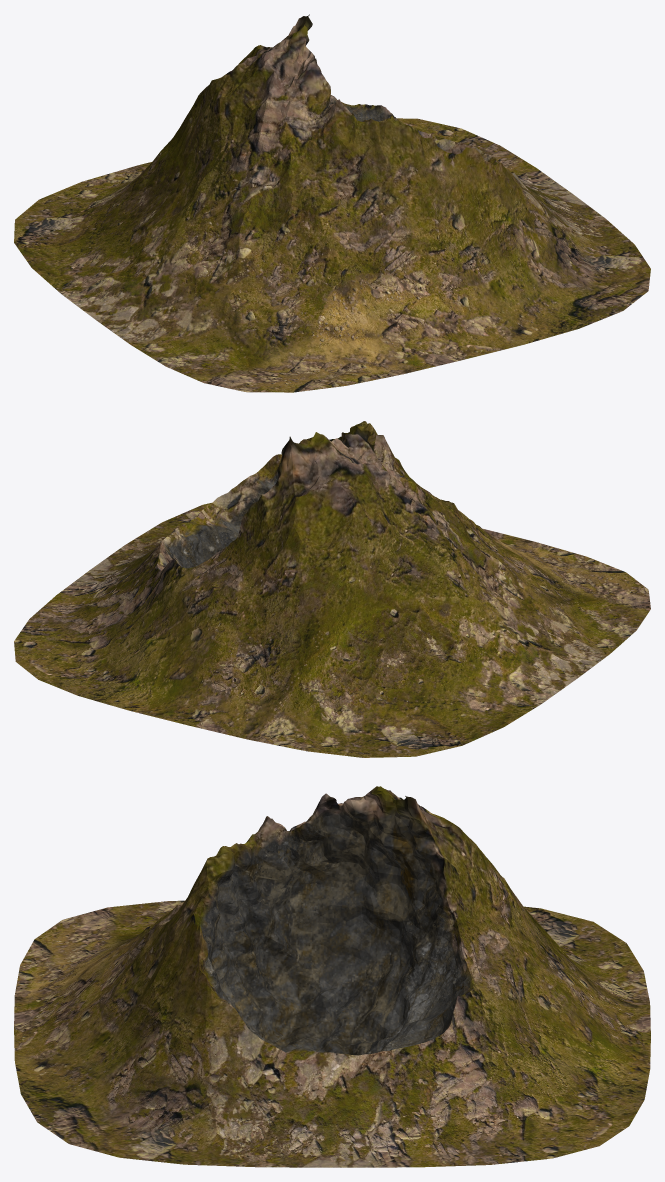
File: blasted 1.fbx
The picture shows the model from 3 angles, top to bottom: view 1: azimuth 30°, elevation 25°; view 2: azimuth 150°, elevation 25°; view 3: azimuth 270°, elevation 25°; orthographic projection. The views are drawn at different scales.
Parts seen in each view (by area): view 1: Blasted Mountain_LOD0; view 2: Blasted Mountain_LOD0; view 3: Blasted Mountain_LOD0.
Part boxes in pixels (x1,y1,x2,y2): Blasted Mountain_LOD0: (14, 14, 650, 392); Blasted Mountain_LOD0: (14, 421, 650, 757); Blasted Mountain_LOD0: (14, 786, 650, 1167).
Size of what is drawn, in the model's own units: 100 by 42.23 by 100.
